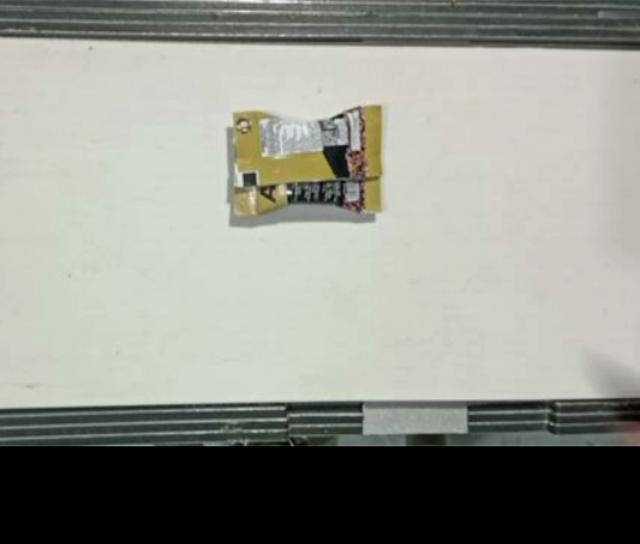Plastik: (229, 105, 382, 220)
